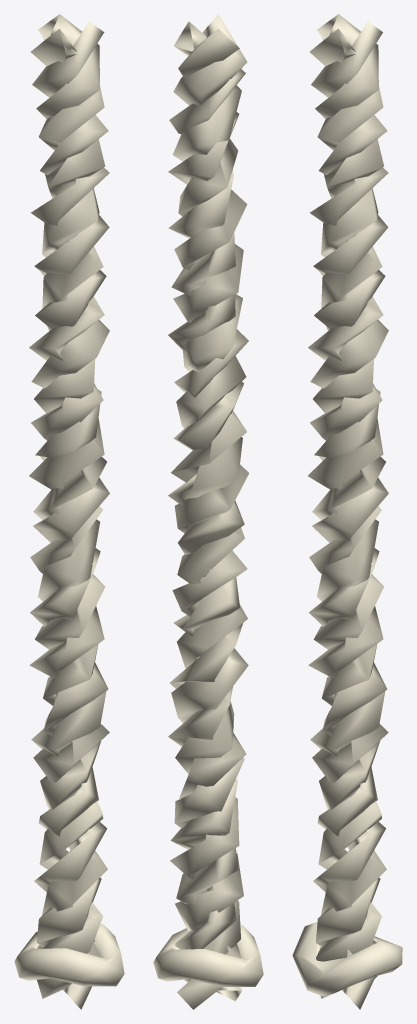
Rendered from climb_rope.glb.
3 renders of one model, left to right at view 1: azimuth 30°, elevation 25°; view 2: azimuth 210°, elevation 25°; view 3: azimuth 270°, elevation 25°, orthographic.
Visible parts, largest first — view 1: TwistedRope.001, TwistedRope.002, TwistedRope, RopeKnot; view 2: TwistedRope.001, TwistedRope, TwistedRope.002, RopeKnot; view 3: TwistedRope.001, TwistedRope.002, TwistedRope, RopeKnot.
Part boxes in pixels (box(x1,y1,x2,y2)): TwistedRope.001: box(29, 14, 109, 998); TwistedRope.002: box(30, 28, 109, 1009); TwistedRope: box(29, 21, 108, 953); RopeKnot: box(14, 923, 124, 986); TwistedRope.001: box(168, 28, 248, 1001); TwistedRope: box(169, 21, 249, 1009); TwistedRope.002: box(168, 14, 247, 982); RopeKnot: box(153, 924, 263, 986); TwistedRope.001: box(308, 21, 387, 978); TwistedRope.002: box(308, 14, 388, 998); TwistedRope: box(309, 28, 388, 1009); RopeKnot: box(292, 922, 402, 996).
Size of the model in its own units: 0.1286 by 1.23 by 0.1255.
